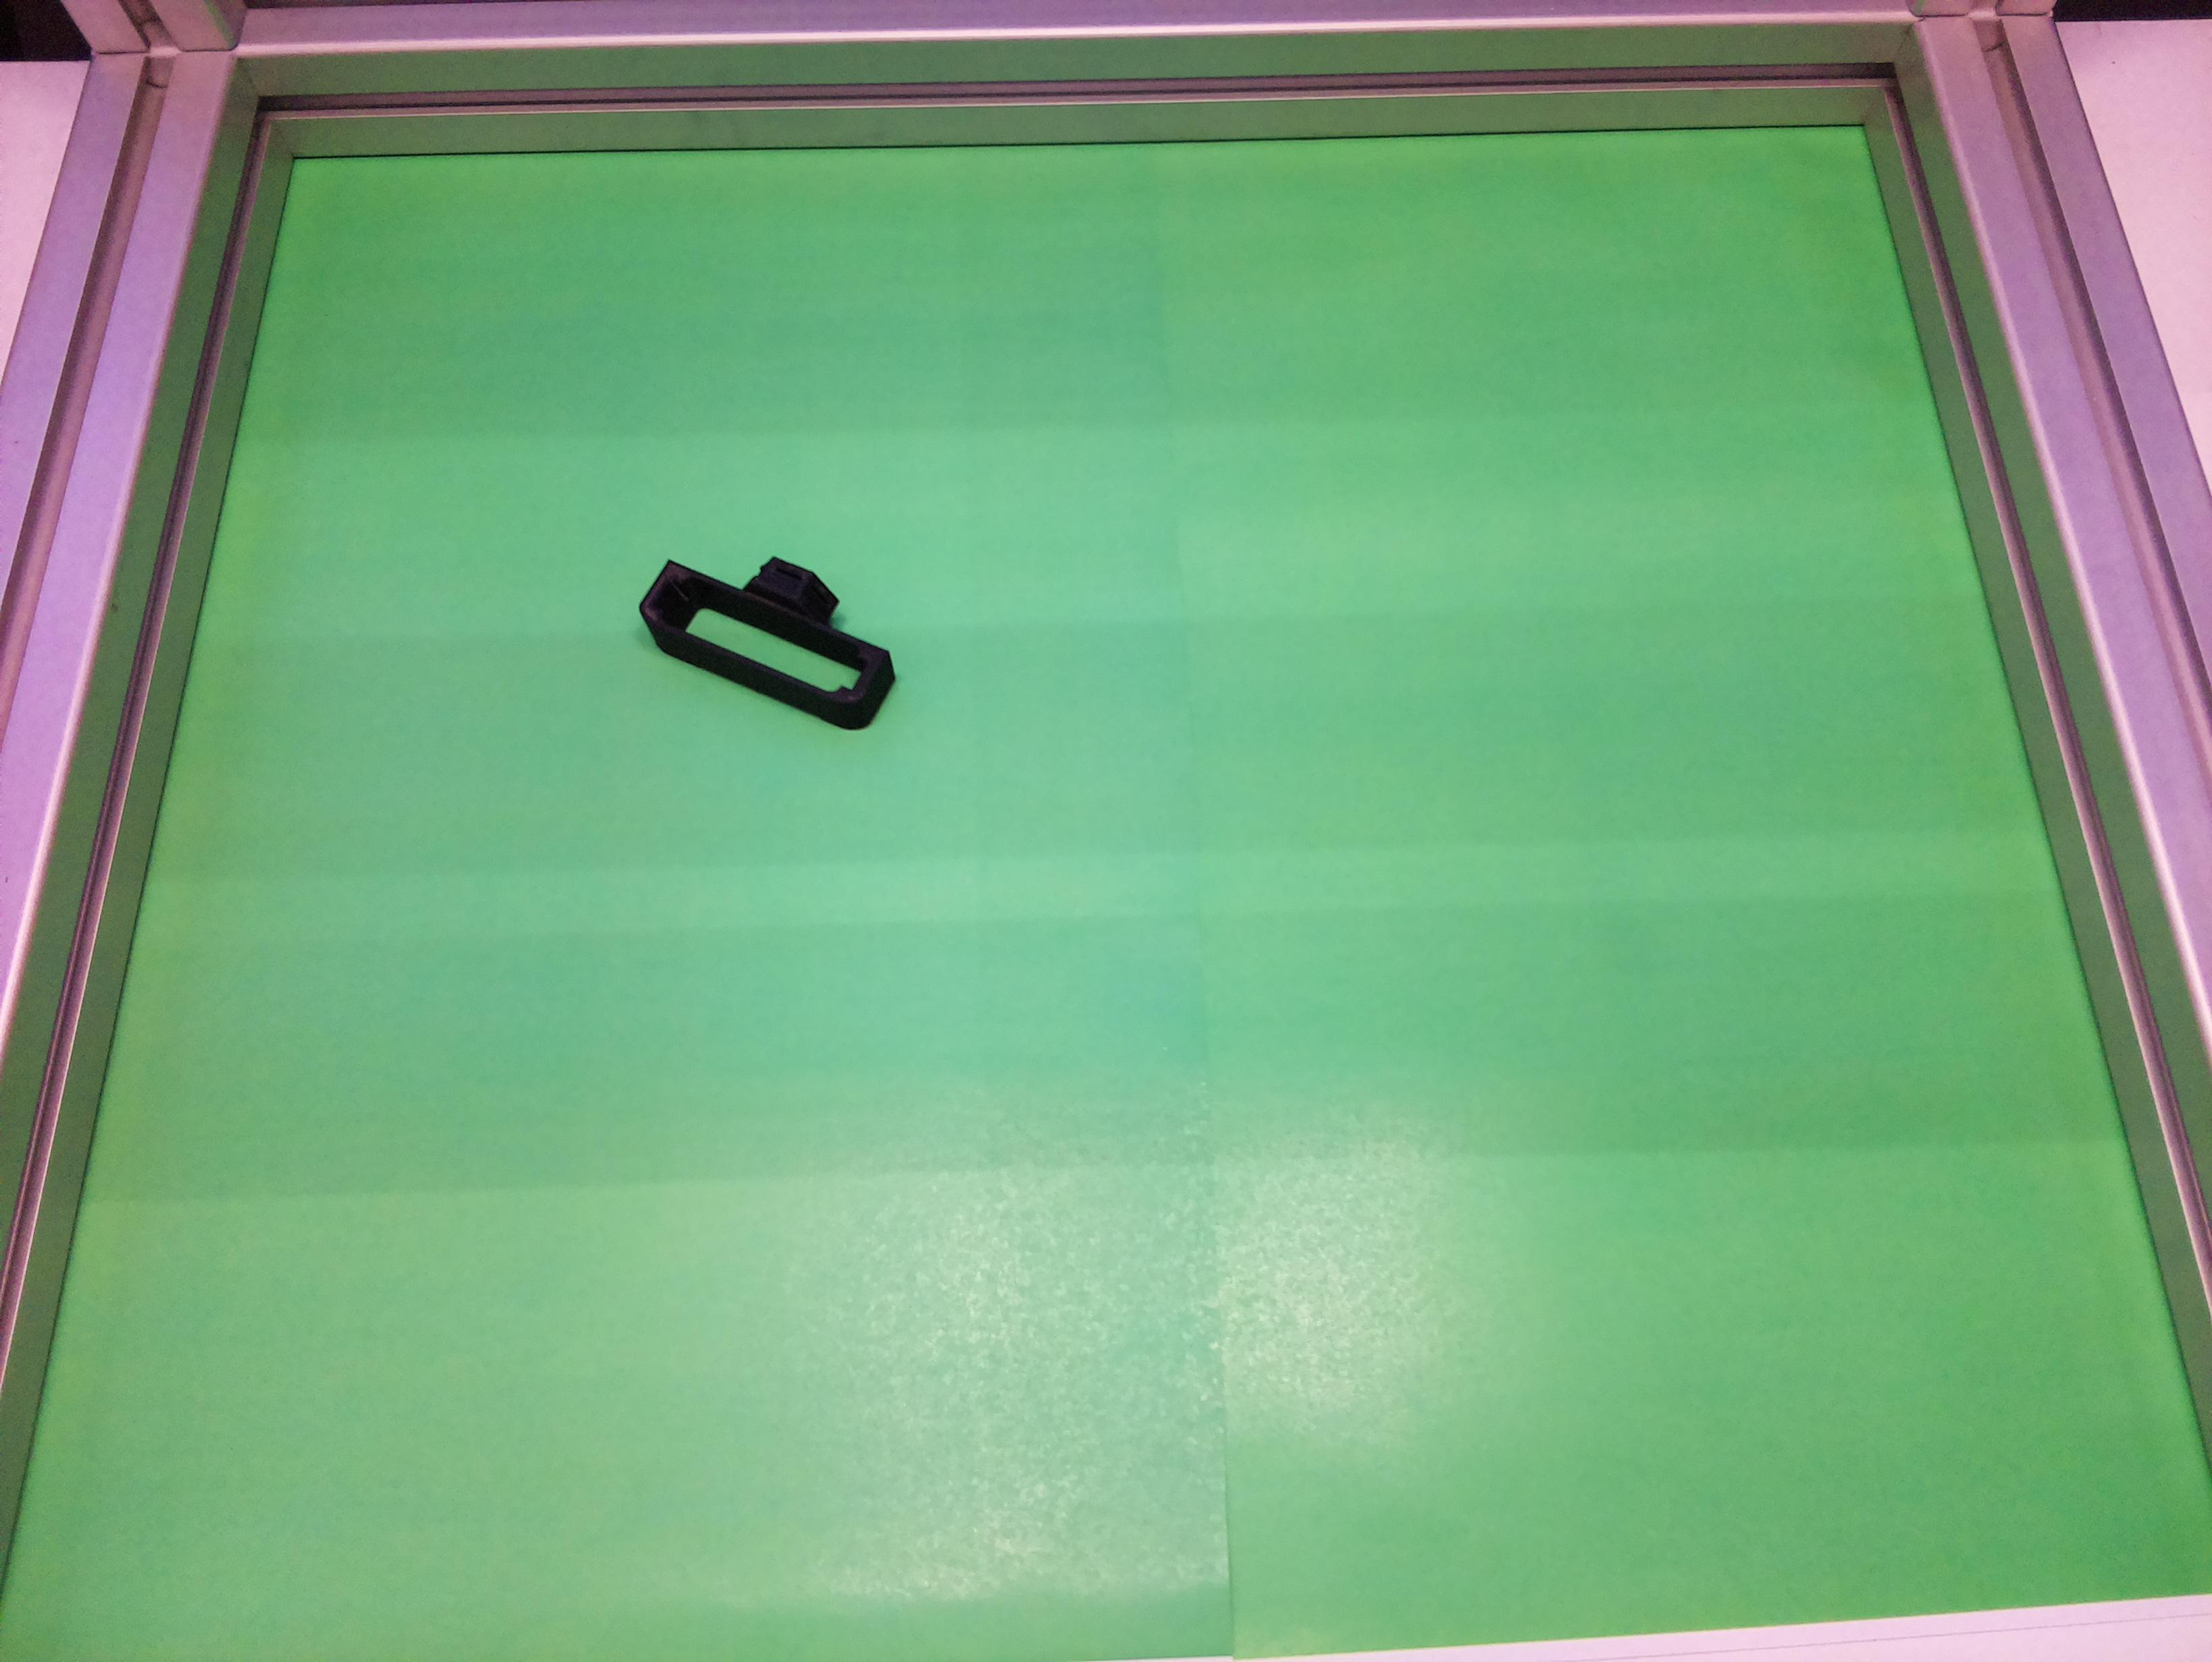cutter_holder: (625, 508, 922, 752)
